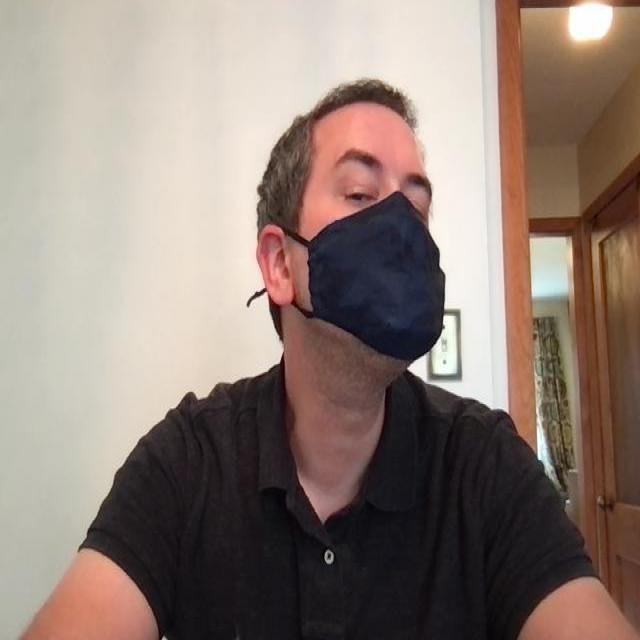face: (257, 79, 448, 361)
